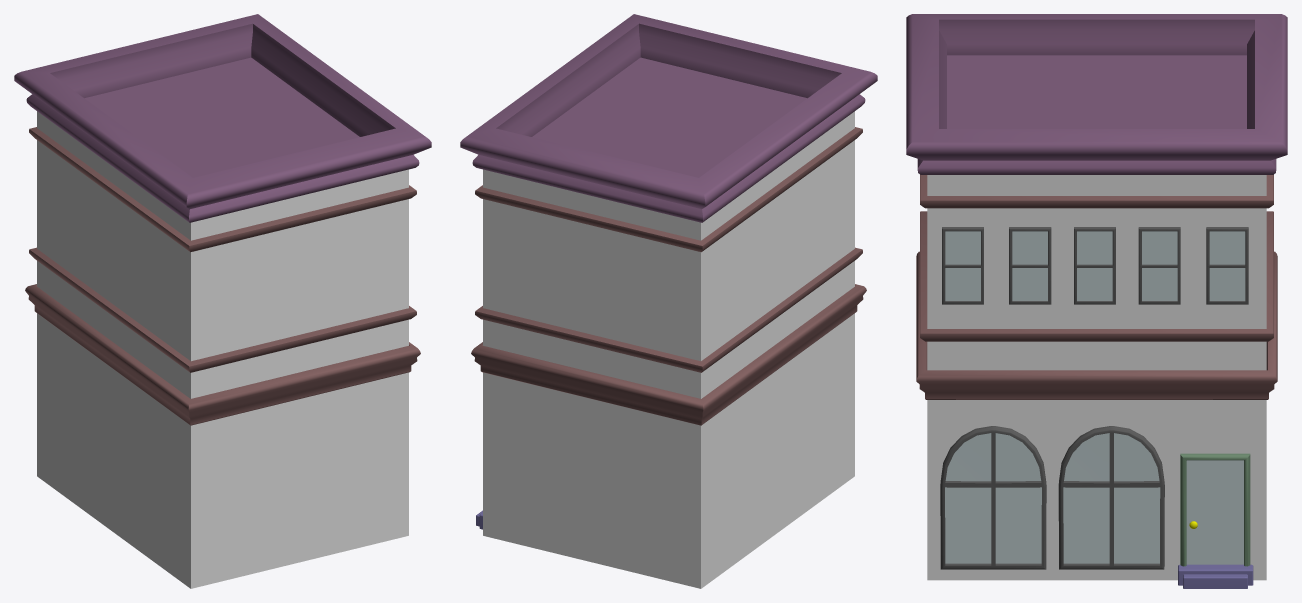
The model's file is Building_1.fbx.
The picture shows the model from 3 angles, left to right: view 1: azimuth 30°, elevation 25°; view 2: azimuth 150°, elevation 25°; view 3: azimuth 270°, elevation 25°; orthographic projection. The views are drawn at different scales.
Visible parts, largest first — view 1: Building_Type_Base, Top_Type_1, Molding_Type_9, Molding_Type_8, Molding_Type_10; view 2: Building_Type_Base, Top_Type_1, Molding_Type_9, Molding_Type_8, Molding_Type_10; view 3: Building_Type_Base, Top_Type_1, Window_2 (×2), Window_1 (×2), Molding_Type_9, Door_Type_4, Molding_Type_8, Molding_Type_10, Window_4, Window_5, Window_3, Step_Type_2 (+1 smaller).
Part boxes in pixels (x1,y1,x2,y2): Building_Type_Base: (37, 111, 408, 588); Top_Type_1: (14, 14, 431, 222); Molding_Type_9: (25, 284, 420, 425); Molding_Type_8: (29, 247, 416, 372); Molding_Type_10: (29, 127, 416, 252); Building_Type_Base: (483, 111, 854, 588); Top_Type_1: (460, 14, 877, 222); Molding_Type_9: (471, 284, 866, 425); Molding_Type_8: (475, 247, 862, 372); Molding_Type_10: (475, 127, 862, 252); Building_Type_Base: (927, 175, 1266, 580); Top_Type_1: (906, 14, 1287, 174); Window_2 (×2): (940, 227, 1051, 569); Window_1 (×2): (942, 227, 1164, 569); Molding_Type_9: (916, 251, 1277, 399); Door_Type_4: (1180, 453, 1250, 566); Molding_Type_8: (920, 211, 1273, 341); Molding_Type_10: (920, 174, 1273, 208); Window_4: (1138, 227, 1180, 304); Window_5: (1206, 227, 1248, 304); Window_3: (1074, 227, 1115, 304); Step_Type_2: (1183, 574, 1247, 588).
Size of the model in its own units: 19.89 by 31.1 by 24.
